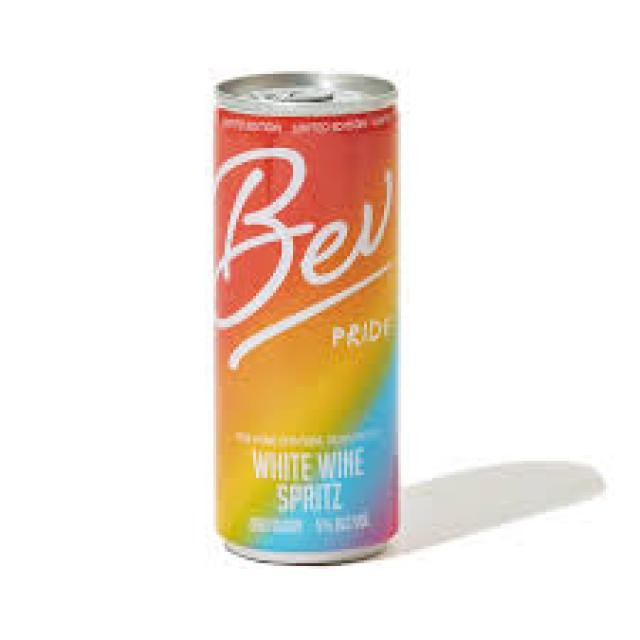Cans: (196, 57, 418, 572)
